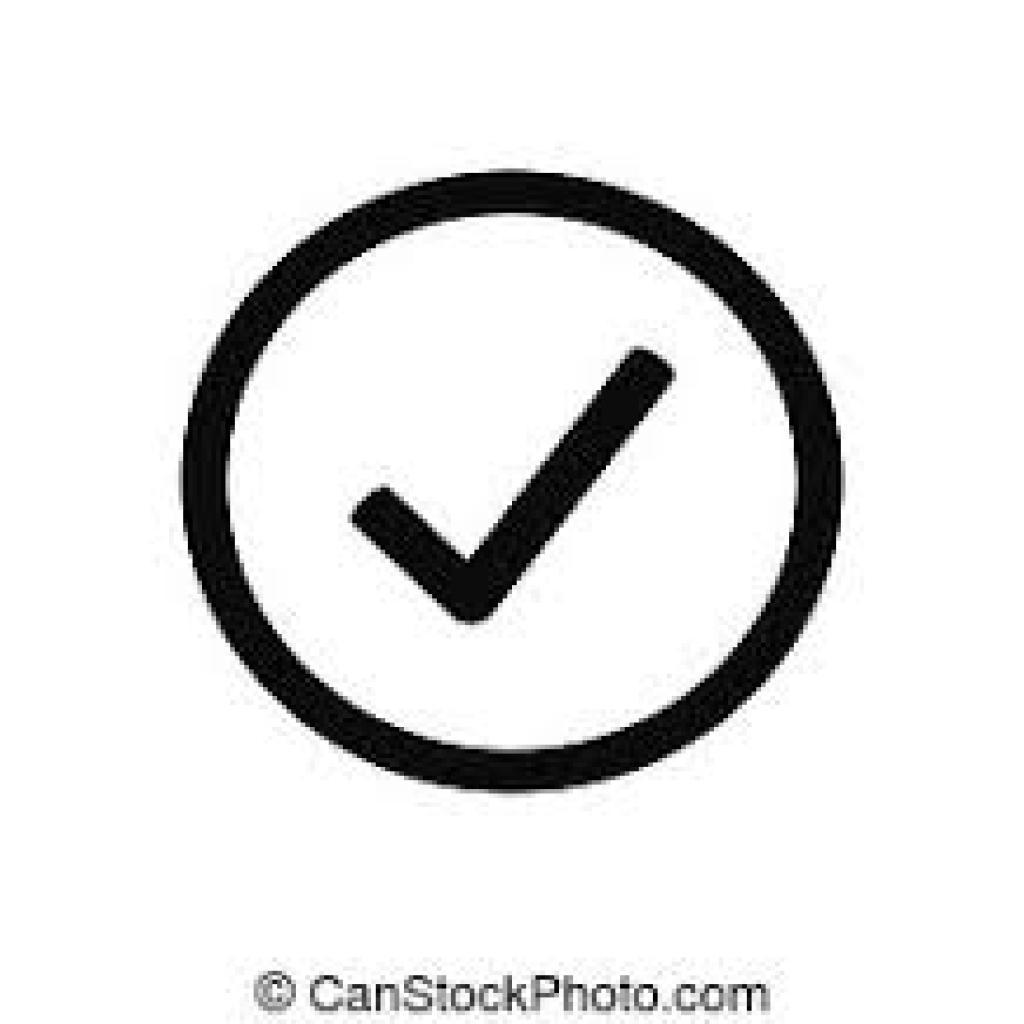radio: (182, 170, 846, 796)
